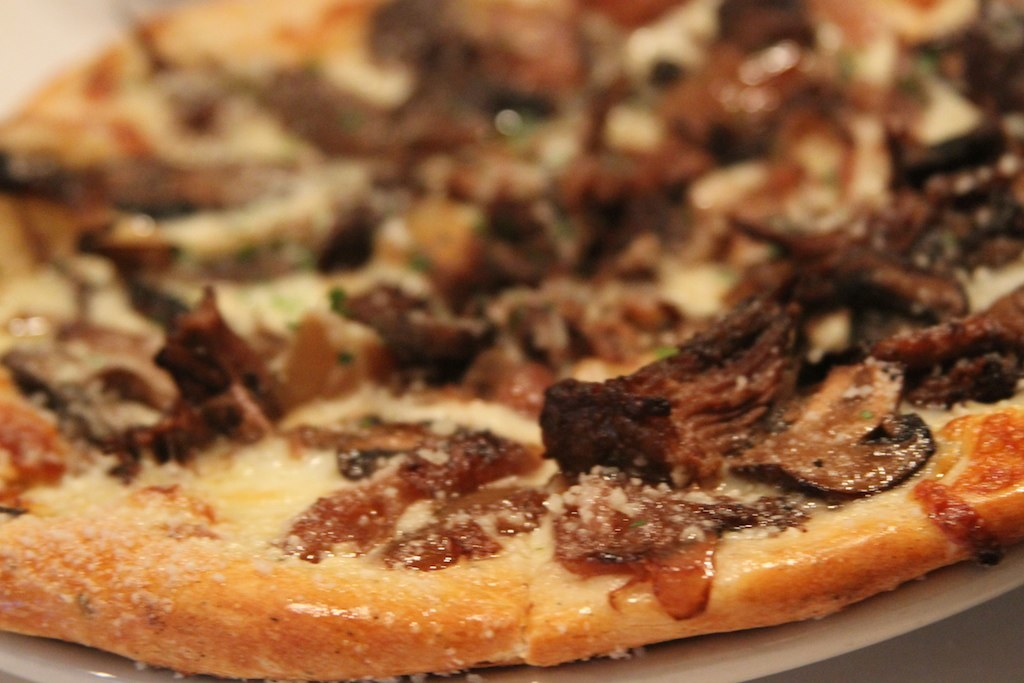Pizza: (0, 0, 1022, 681)
